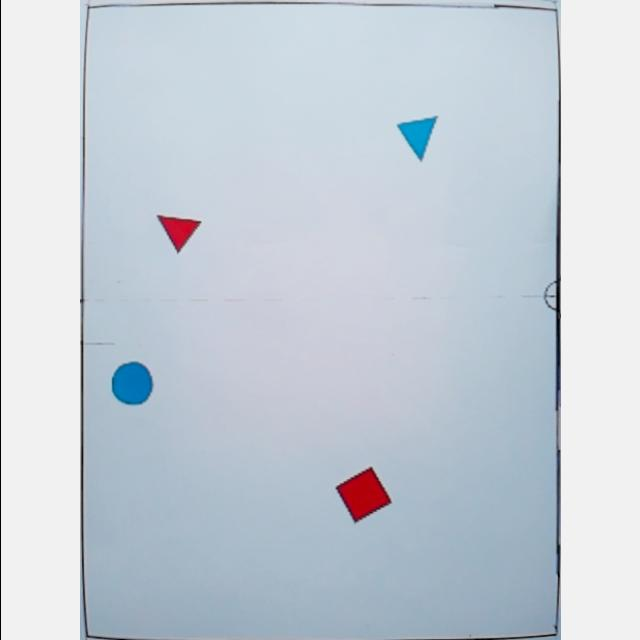blueCircle: (110, 361, 156, 407)
blueTriangle: (395, 112, 441, 164)
redSquare: (334, 467, 392, 523)
redTriangle: (155, 210, 203, 252)
